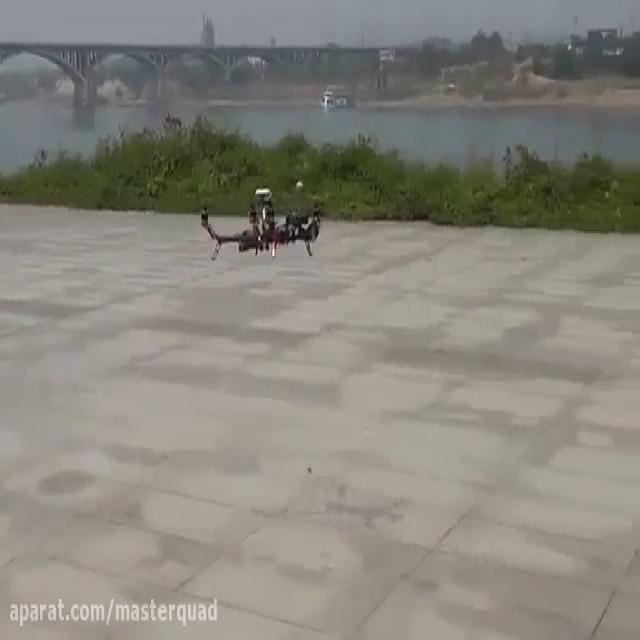drone: (189, 174, 328, 265)
